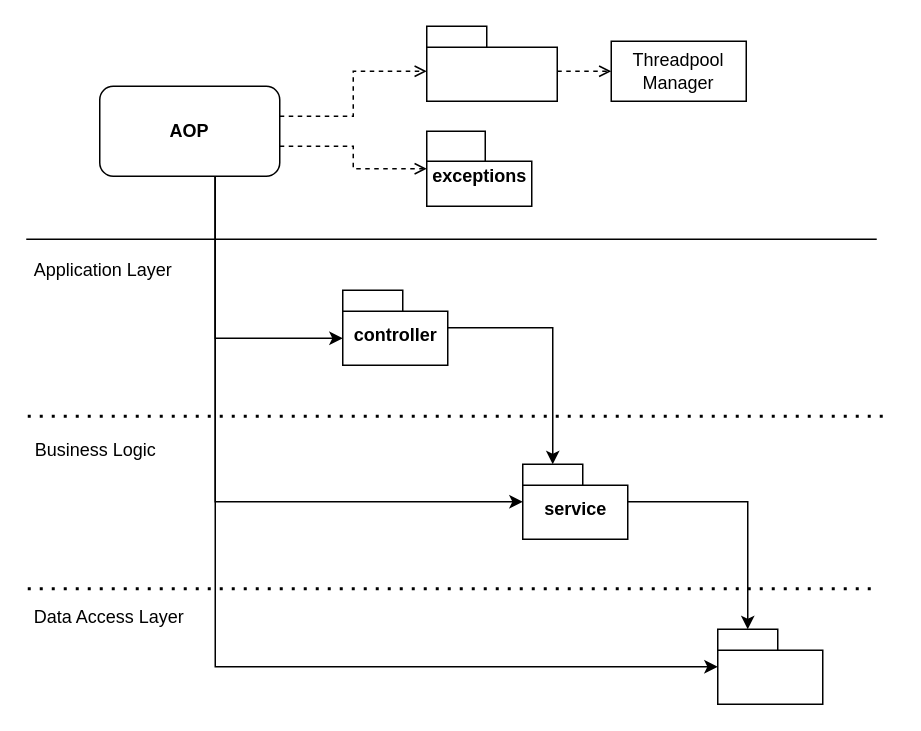
This 921x731 diagram has some shape labels left out. The box of each missing label's shape, as (x1, y1, x2, y2) in pixels:
configuration: (425, 25, 557, 101)
repository: (716, 628, 823, 704)
